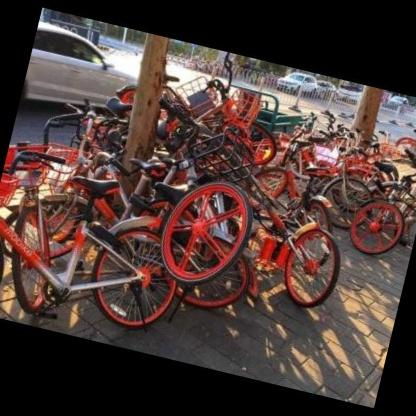Bicycle: (3, 169, 179, 331), (81, 150, 263, 276), (182, 202, 354, 316), (356, 174, 414, 273)
